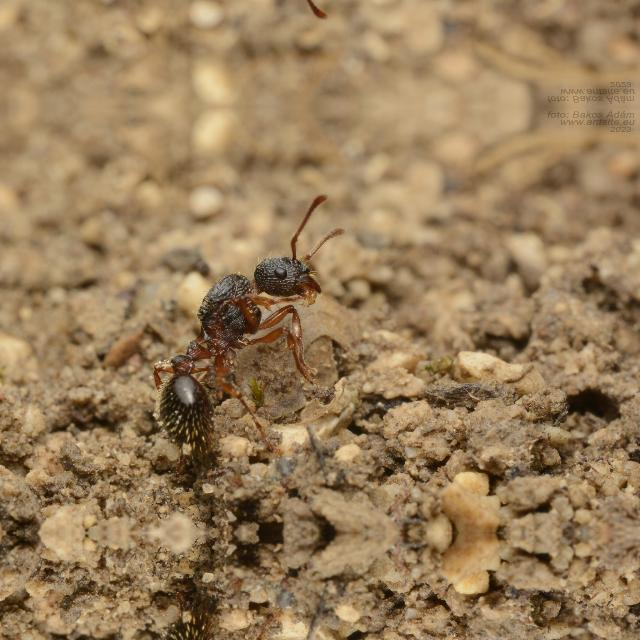Myrmica: (102, 202, 364, 476)
